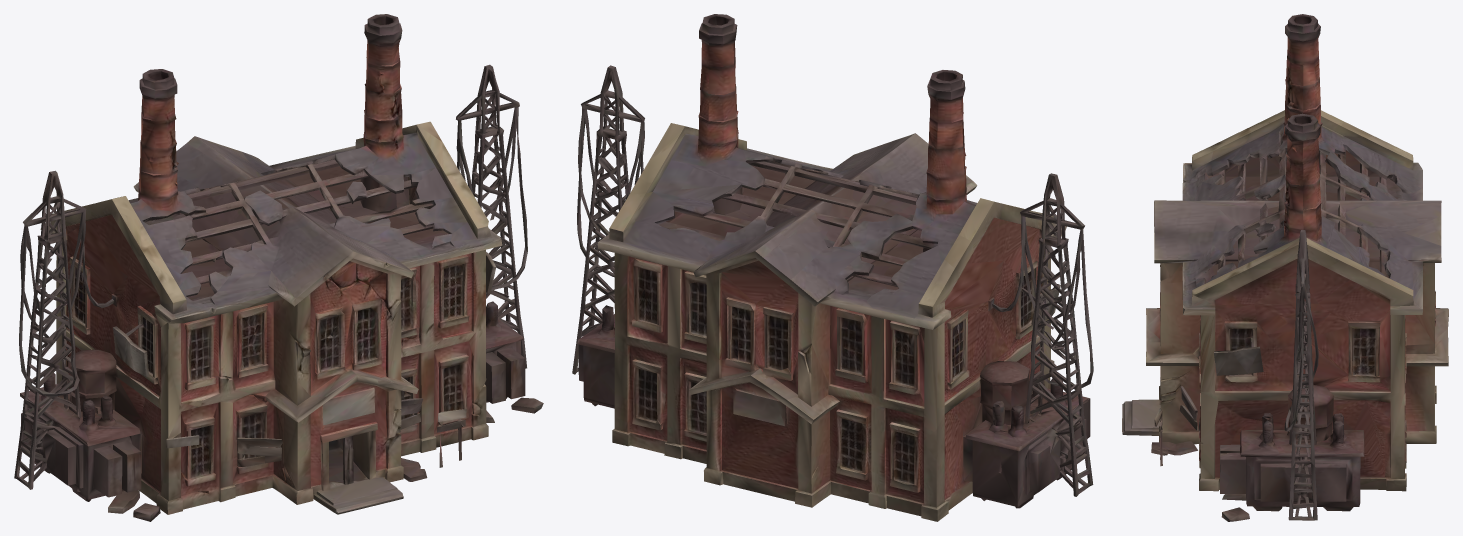
The model's file is power_plant_b_idle.glb.
The picture shows the model from 3 angles, left to right: view 1: azimuth 30°, elevation 25°; view 2: azimuth 150°, elevation 25°; view 3: azimuth 270°, elevation 25°; orthographic projection. The views are drawn at different scales.
Parts seen in each view (by area): view 1: tripo_node_55776ce0-c4dd-4d34-a5d4-e0477519d047; view 2: tripo_node_55776ce0-c4dd-4d34-a5d4-e0477519d047; view 3: tripo_node_55776ce0-c4dd-4d34-a5d4-e0477519d047.
Part boxes in pixels (left/top/right/bottom): tripo_node_55776ce0-c4dd-4d34-a5d4-e0477519d047: left=14, top=14, right=543, bottom=521; tripo_node_55776ce0-c4dd-4d34-a5d4-e0477519d047: left=572, top=14, right=1093, bottom=521; tripo_node_55776ce0-c4dd-4d34-a5d4-e0477519d047: left=1122, top=14, right=1448, bottom=521.
Size of the model in its own units: 19.97 by 14.55 by 12.27.
1 material, 1 textured.
